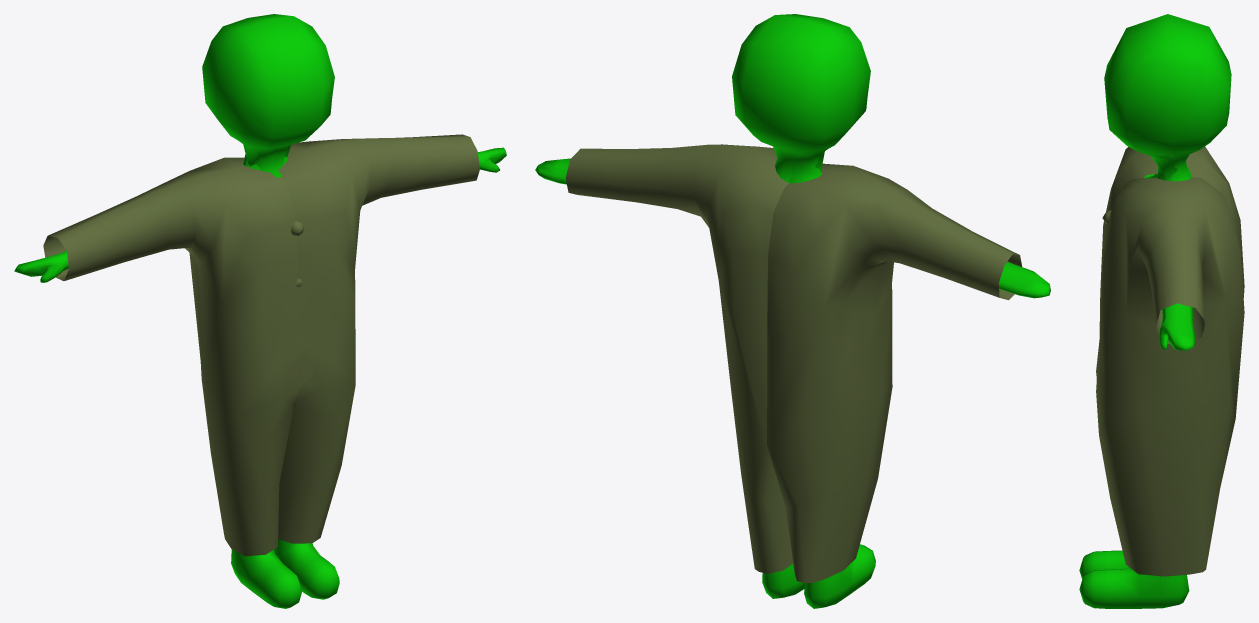
Rendered from asker12.fbx.
The picture shows the model from 3 angles, left to right: view 1: azimuth 30°, elevation 25°; view 2: azimuth 150°, elevation 25°; view 3: azimuth 270°, elevation 25°; orthographic projection. The views are drawn at different scales.
Parts seen in each view (by area): view 1: character; view 2: character; view 3: character.
Boxes of the visible parts, box(x1,y1,x2,y2) form: character: box(14, 14, 506, 608); character: box(535, 14, 1050, 608); character: box(1079, 14, 1244, 608).
Bounding box in the file's own units: 1056 × 1146 × 299.
